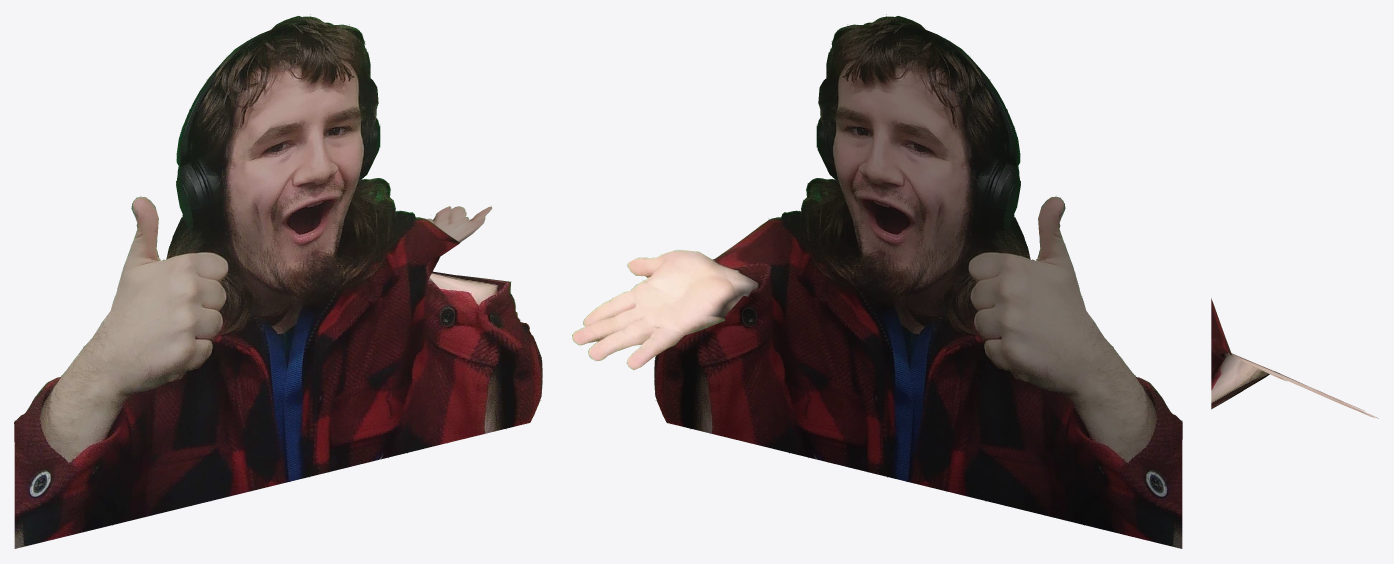
The model's file is nathanielFBX.fbx.
3 renders of one model, left to right at view 1: azimuth 30°, elevation 25°; view 2: azimuth 150°, elevation 25°; view 3: azimuth 270°, elevation 25°, orthographic. The views are drawn at different scales.
Parts seen in each view (by area): view 1: pCube1; view 2: pCube1; view 3: pCube1.
Part boxes in pixels (x1=…): pCube1: x1=14, y1=14, x2=542, y2=548; pCube1: x1=572, y1=14, x2=1182, y2=548; pCube1: x1=1211, y1=298, x2=1378, y2=418.
Size of the model in its own units: 1.9 by 1.6 by 0.58.
